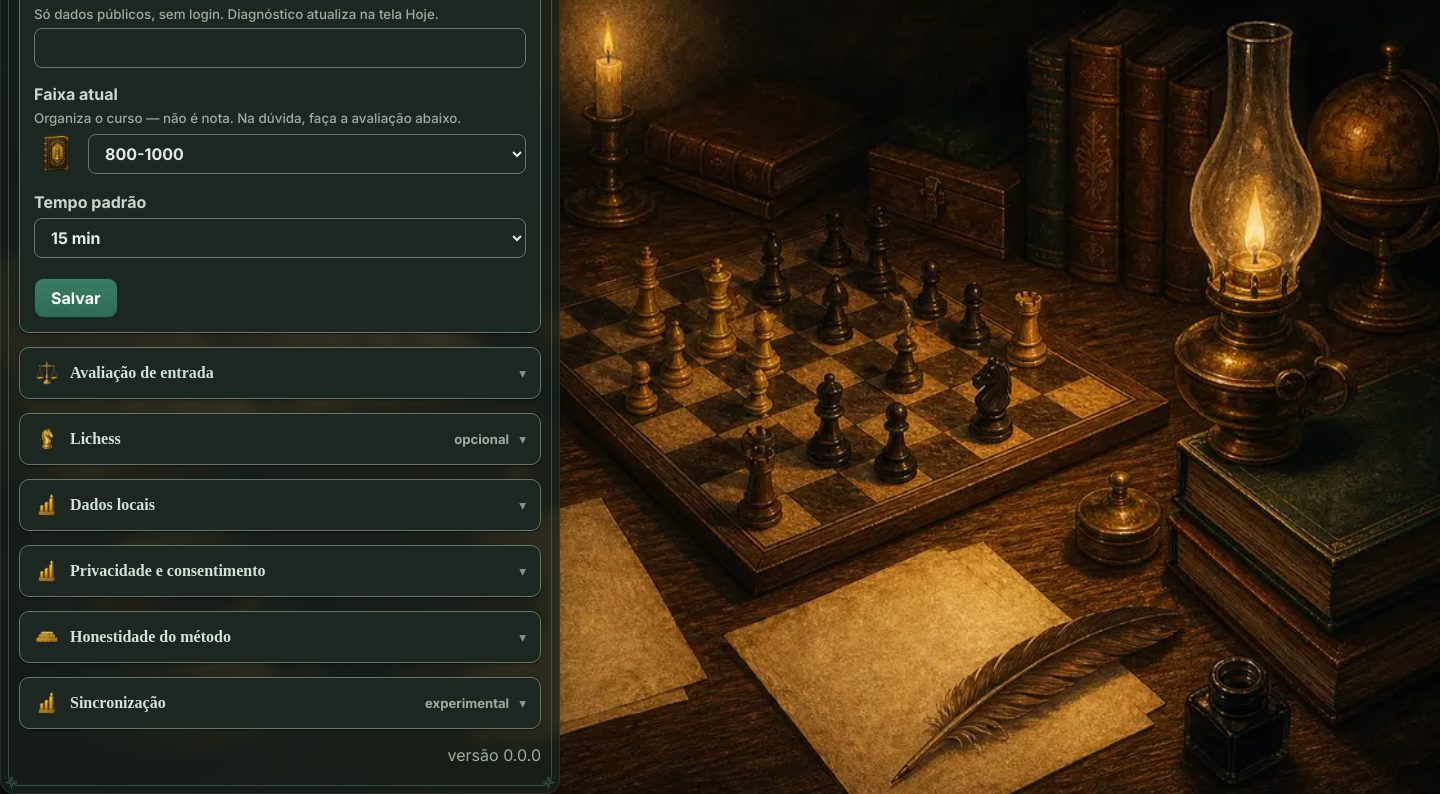
Test case: Config — fold de privacidade e consentimento › mostra a data de consentimento quando consentedAt está presente
(page scrolled)
Click the heading "Privacidade e consentimento" at (150, 571), box left=34, top=558, right=266, bottom=584
(page scrolled)
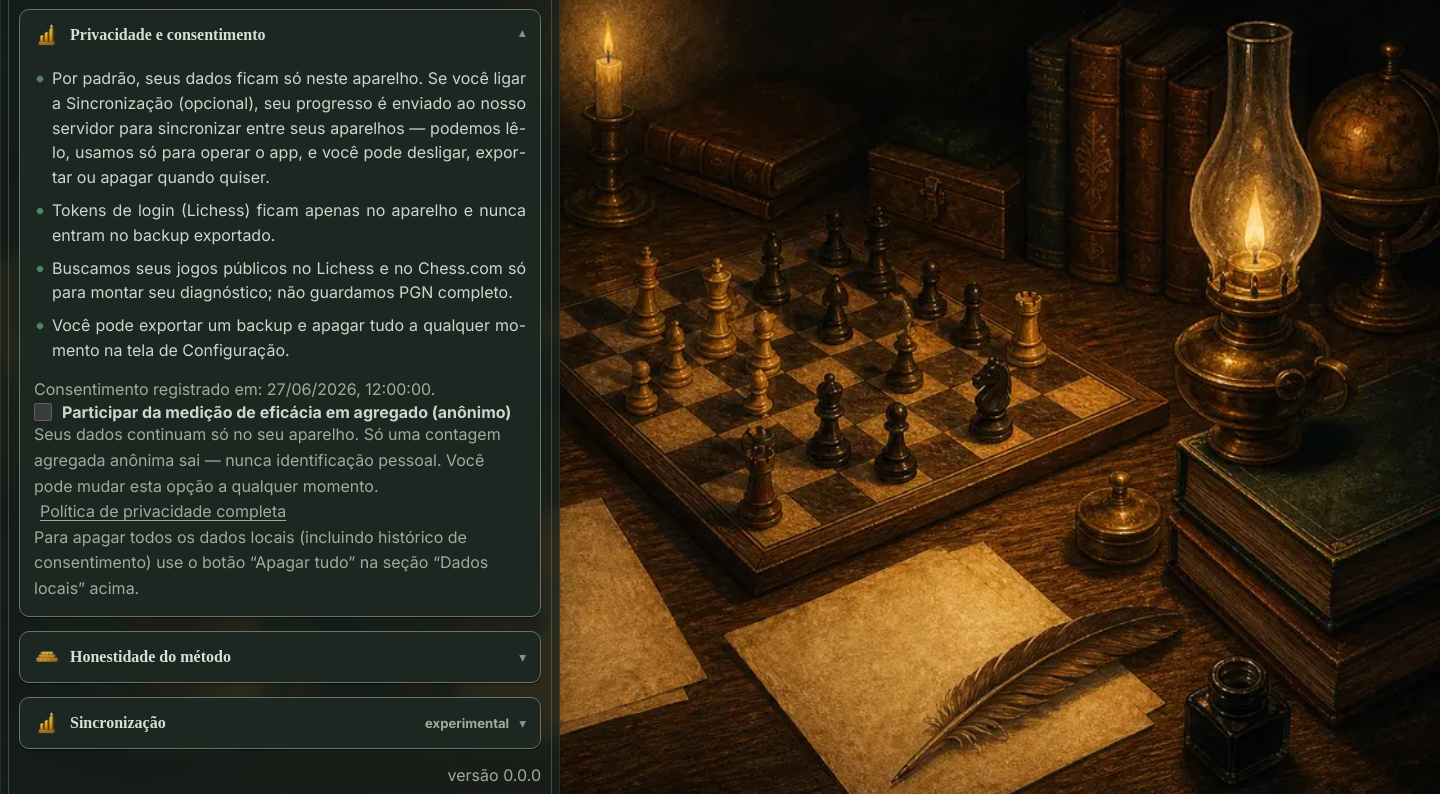
Check: the text "Consentimento registrado em: 27/06/2026, 12:00:00." is shown, box left=34, top=379, right=435, bottom=399
